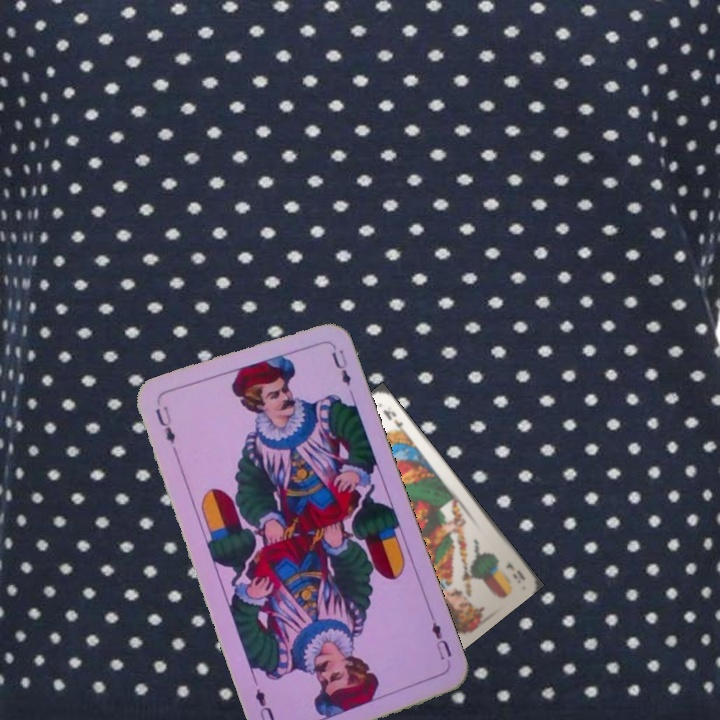EK: (502, 559, 528, 582)
EU: (427, 617, 455, 663), (151, 402, 178, 447)
